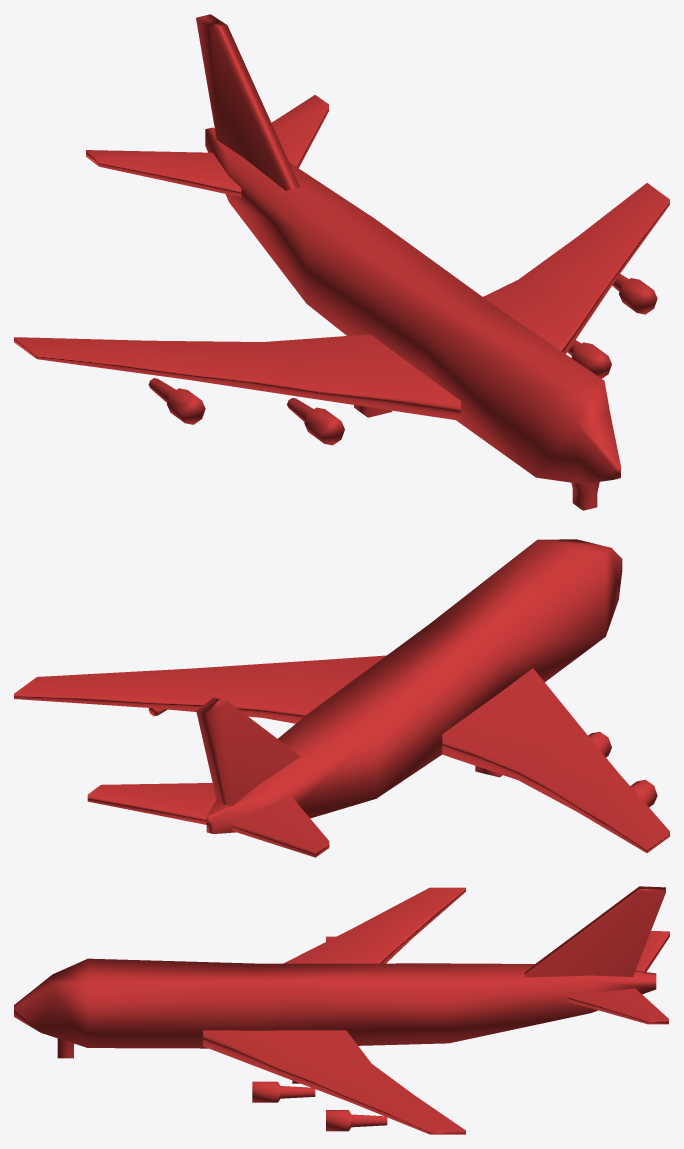
The model's file is passagiermaschine_747_colmesh.fbx.
3 renders of one model, top to bottom at view 1: azimuth 30°, elevation 25°; view 2: azimuth 150°, elevation 25°; view 3: azimuth 270°, elevation 25°, orthographic. The views are drawn at different scales.
Visible parts, largest first — view 1: body_main; view 2: body_main; view 3: body_main.
Part boxes in pixels (<box>): body_main: <box>14,14,669,510</box>; body_main: <box>14,539,669,857</box>; body_main: <box>14,886,669,1134</box>.
Size of the model in its own units: 5346 by 1708 by 6100.
